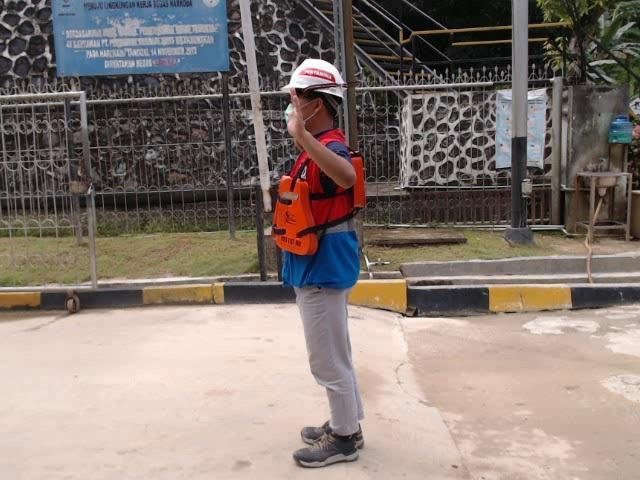vest: (272, 158, 368, 251)
